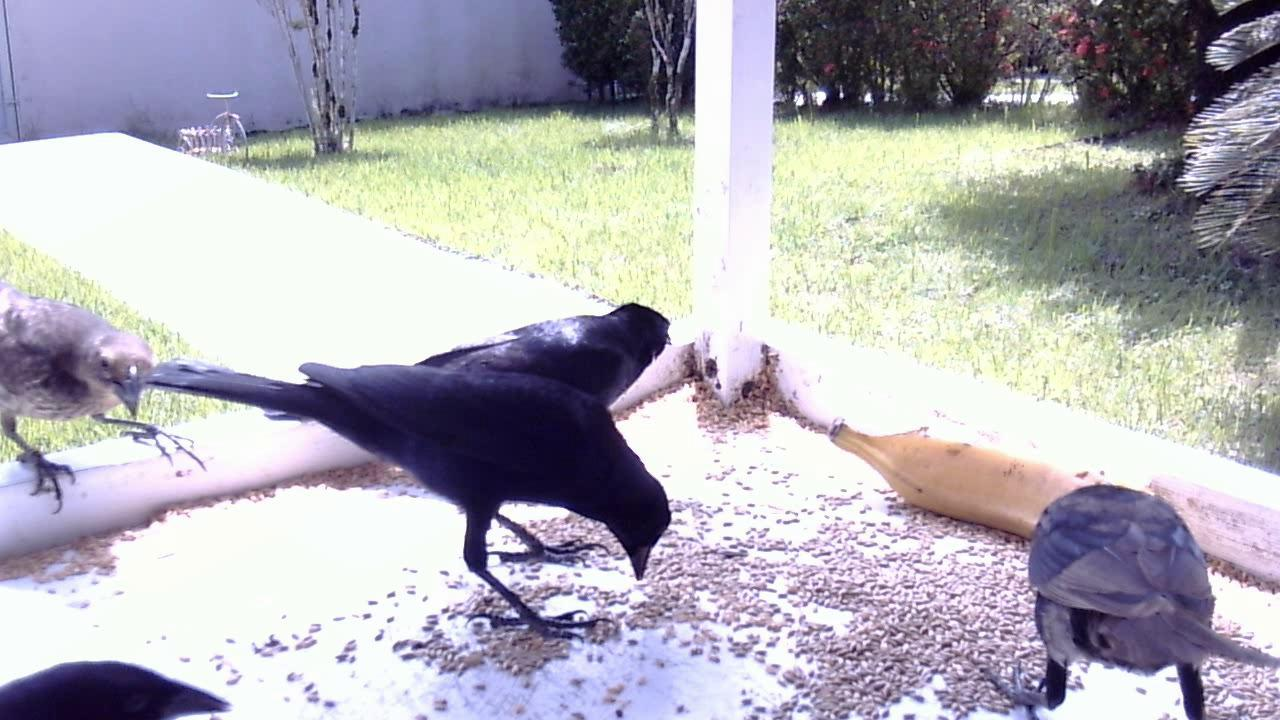chupim: (140, 355, 674, 650), (988, 455, 1276, 720), (1, 269, 220, 519), (386, 288, 688, 420)
